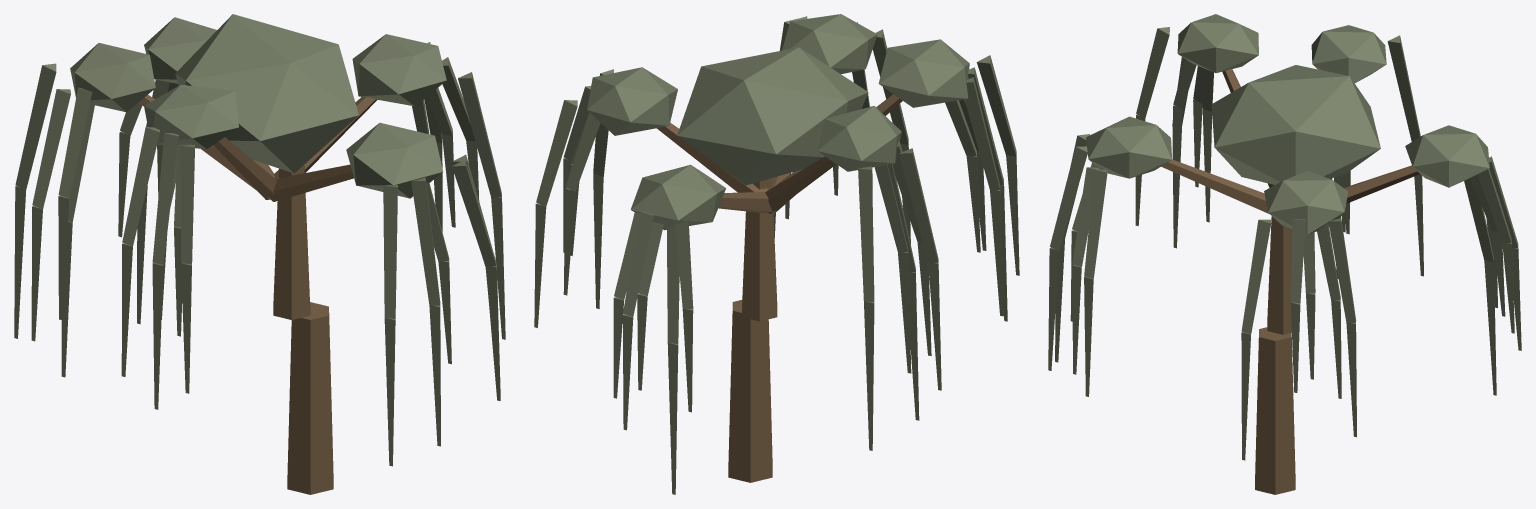
The model's file is K12a_far.glb.
3 views of the same model, side by side, from view 1: azimuth 30°, elevation 25°; view 2: azimuth 150°, elevation 25°; view 3: azimuth 270°, elevation 25° (orthographic). The views are drawn at different scales.
Parts seen in each view (by area): view 1: K12a_far; view 2: K12a_far; view 3: K12a_far.
Boxes of the visible parts, <box> form: K12a_far: <box>14,14,505,494</box>; K12a_far: <box>534,14,1019,494</box>; K12a_far: <box>1048,14,1521,494</box>.
Bounding box in the file's own units: 7.66 × 7.86 × 8.47.
